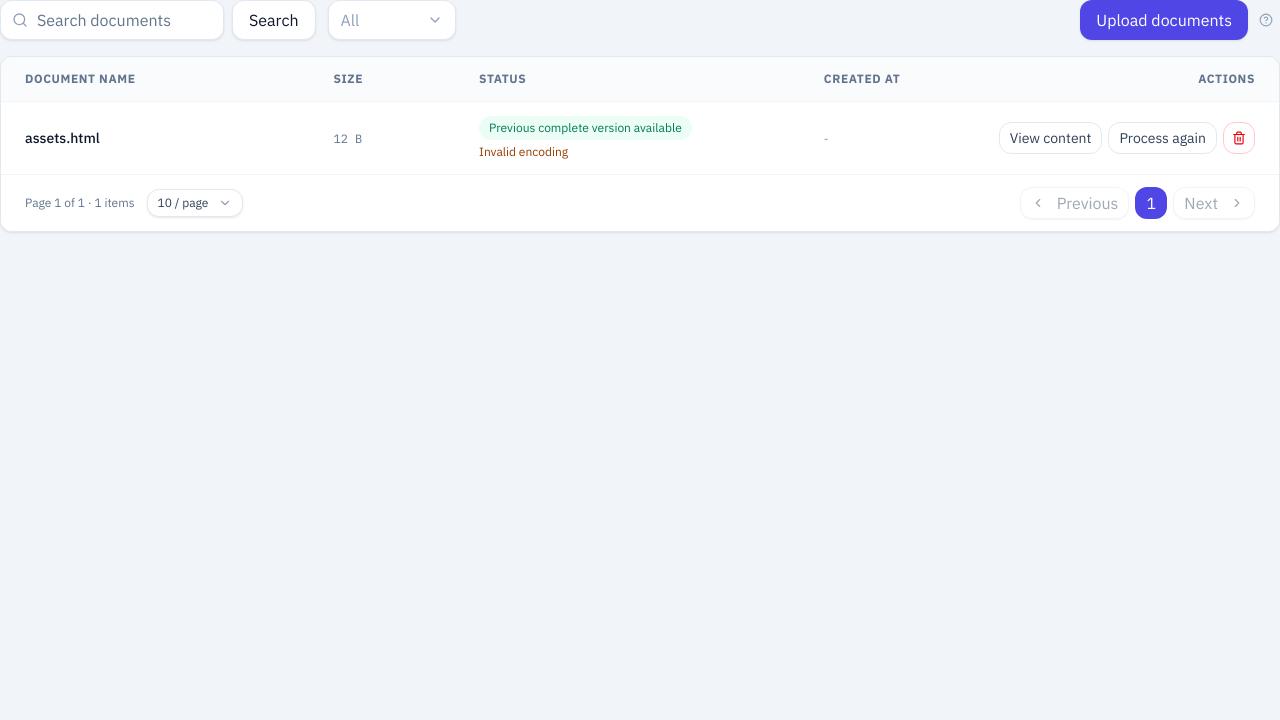
Test: keeps HTML tables while dropping executable tags and source attributes
Click the button "View content". click: (1051, 138)
box: [999,122,1102,154]
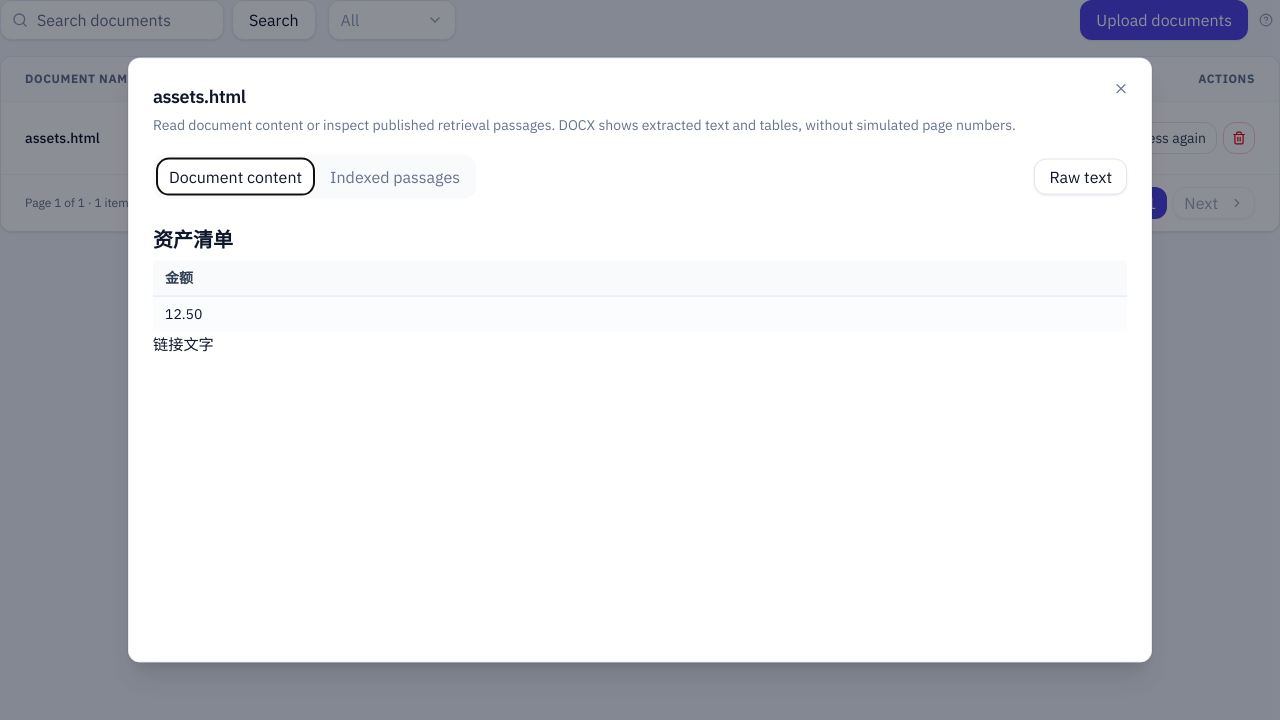
Check: the heading "资产清单" is shown, box [153,227,233,253]
Check: the cell "12.50" is shown, box [153,296,1127,332]
